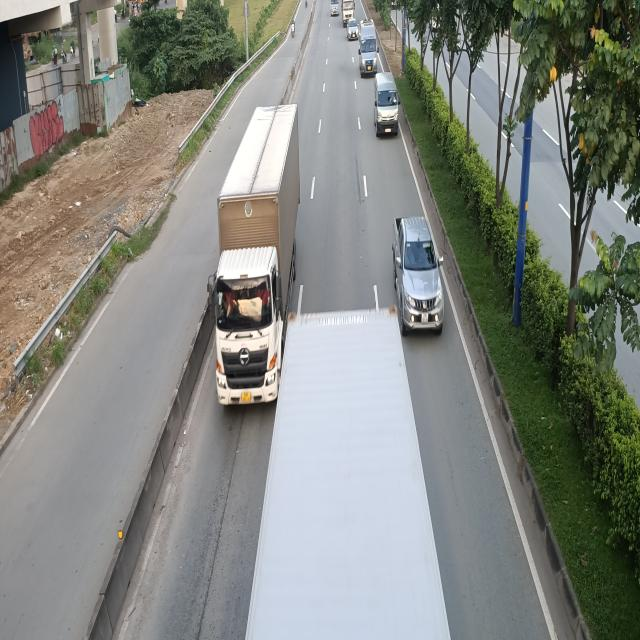car: (395, 215, 445, 338), (348, 18, 360, 41)
truck: (205, 109, 300, 412)
van: (373, 73, 400, 138), (358, 18, 379, 79)
